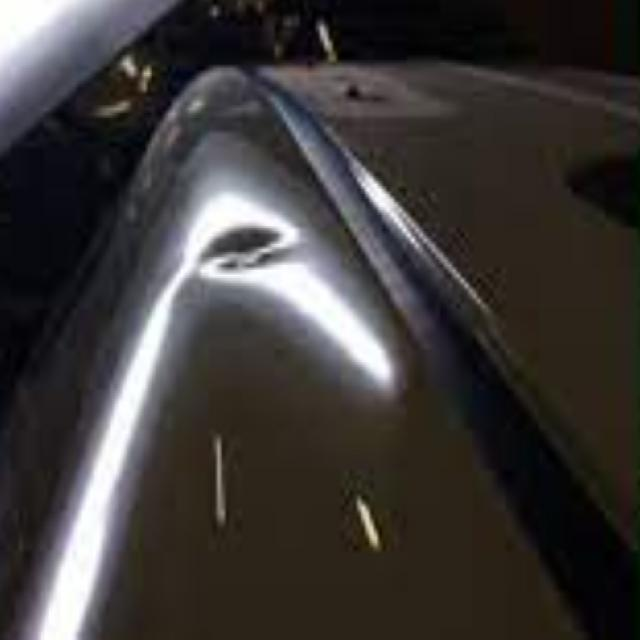dents: (195, 202, 307, 296)
